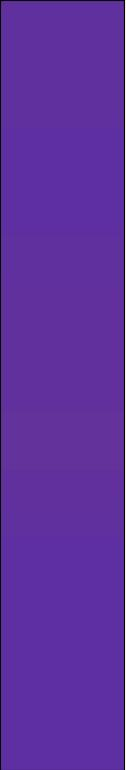safe: (15, 14, 112, 746)
